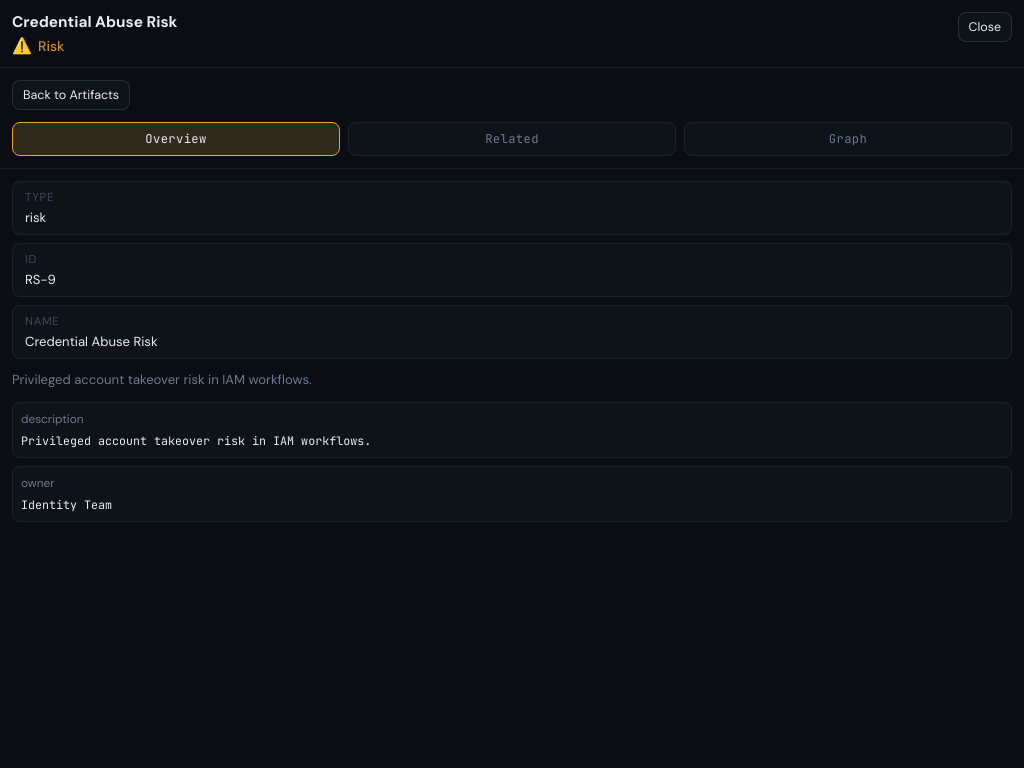
Test: EntityDetailPanel › switches between Overview, Related, and Graph tabs
Expected: the panel named "Overview" is shown, [12,181,1012,522]
Click the tab "Related" at point(512, 139), box [348,122,676,156]
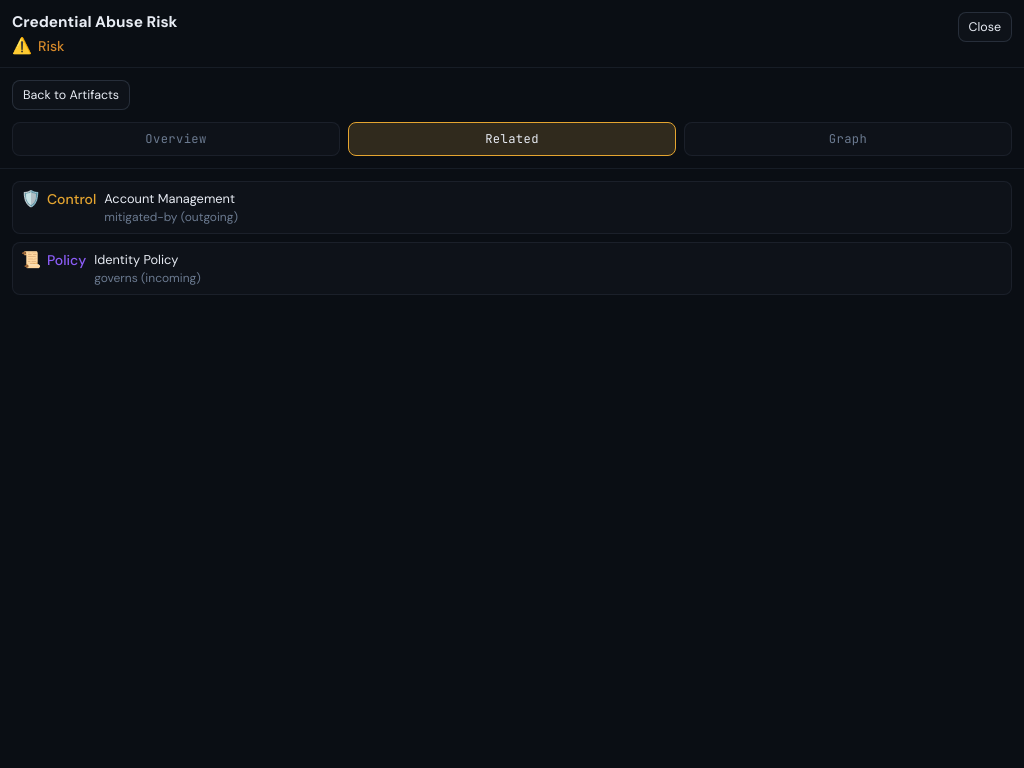
Now the panel named "Related" is shown, box [12,181,1012,295]
Click the tab "Graph" at point(848, 139), box [684,122,1012,156]
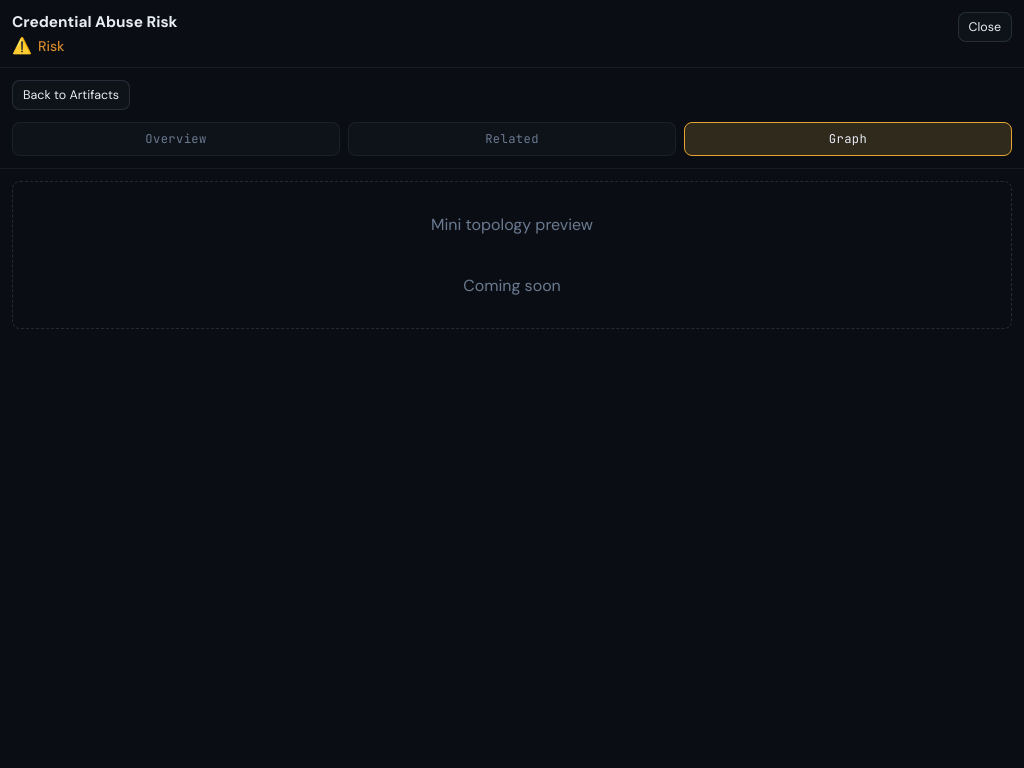
Now the panel named "Graph" is shown, box [12,181,1012,329]
Now the text "Coming soon" is shown, box [463,275,561,296]
